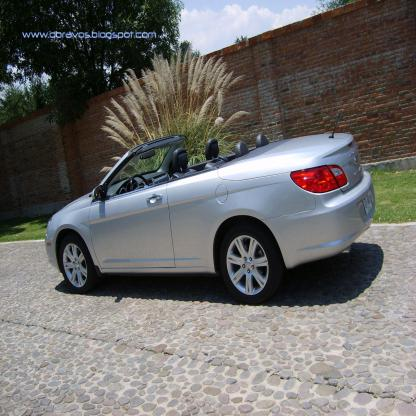car: (44, 131, 380, 297)
